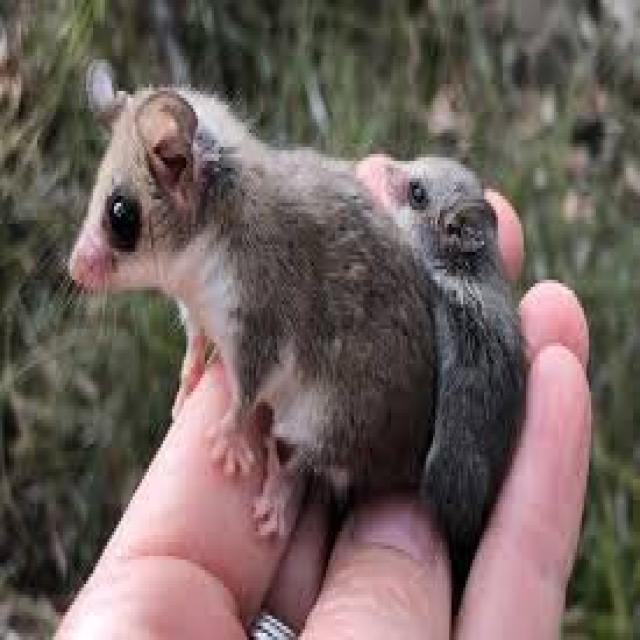Possum: (67, 55, 434, 535), (354, 129, 528, 548)
